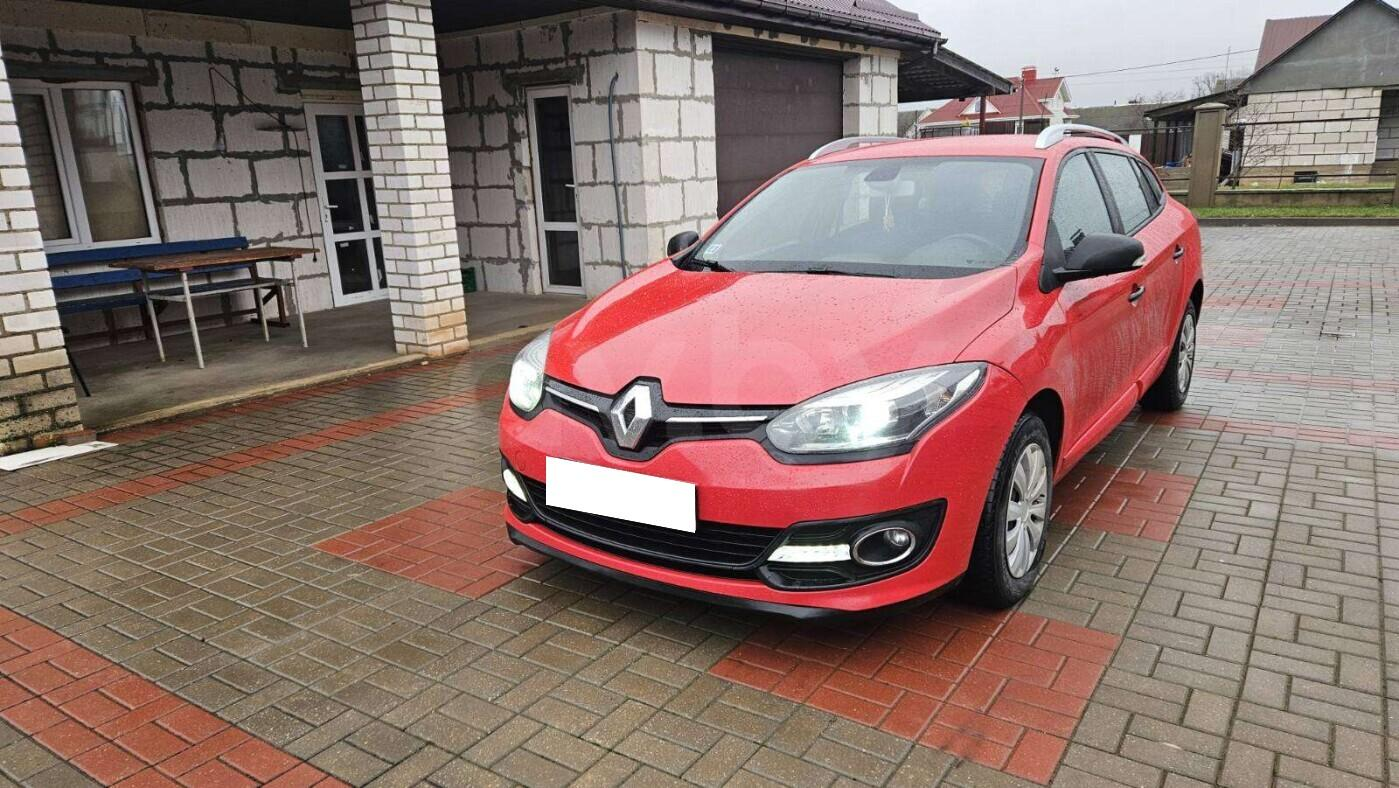Megane_2012-2014: (487, 131, 1213, 613)
